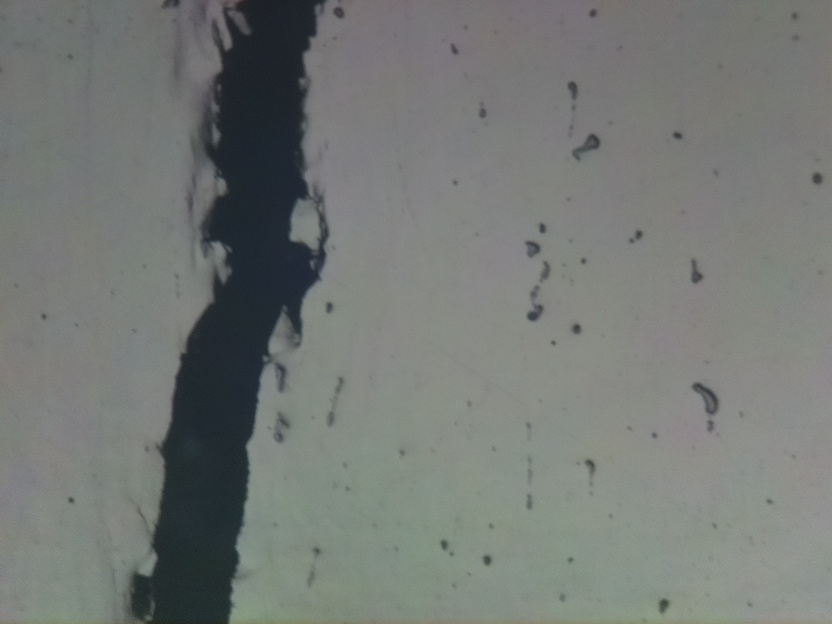crack: (132, 0, 327, 624)
